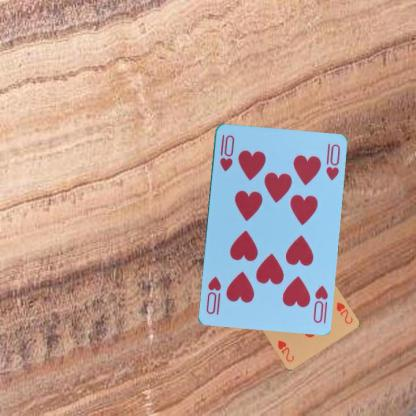10h: (310, 283, 329, 324), (217, 131, 235, 172)
2h: (332, 300, 353, 326)
